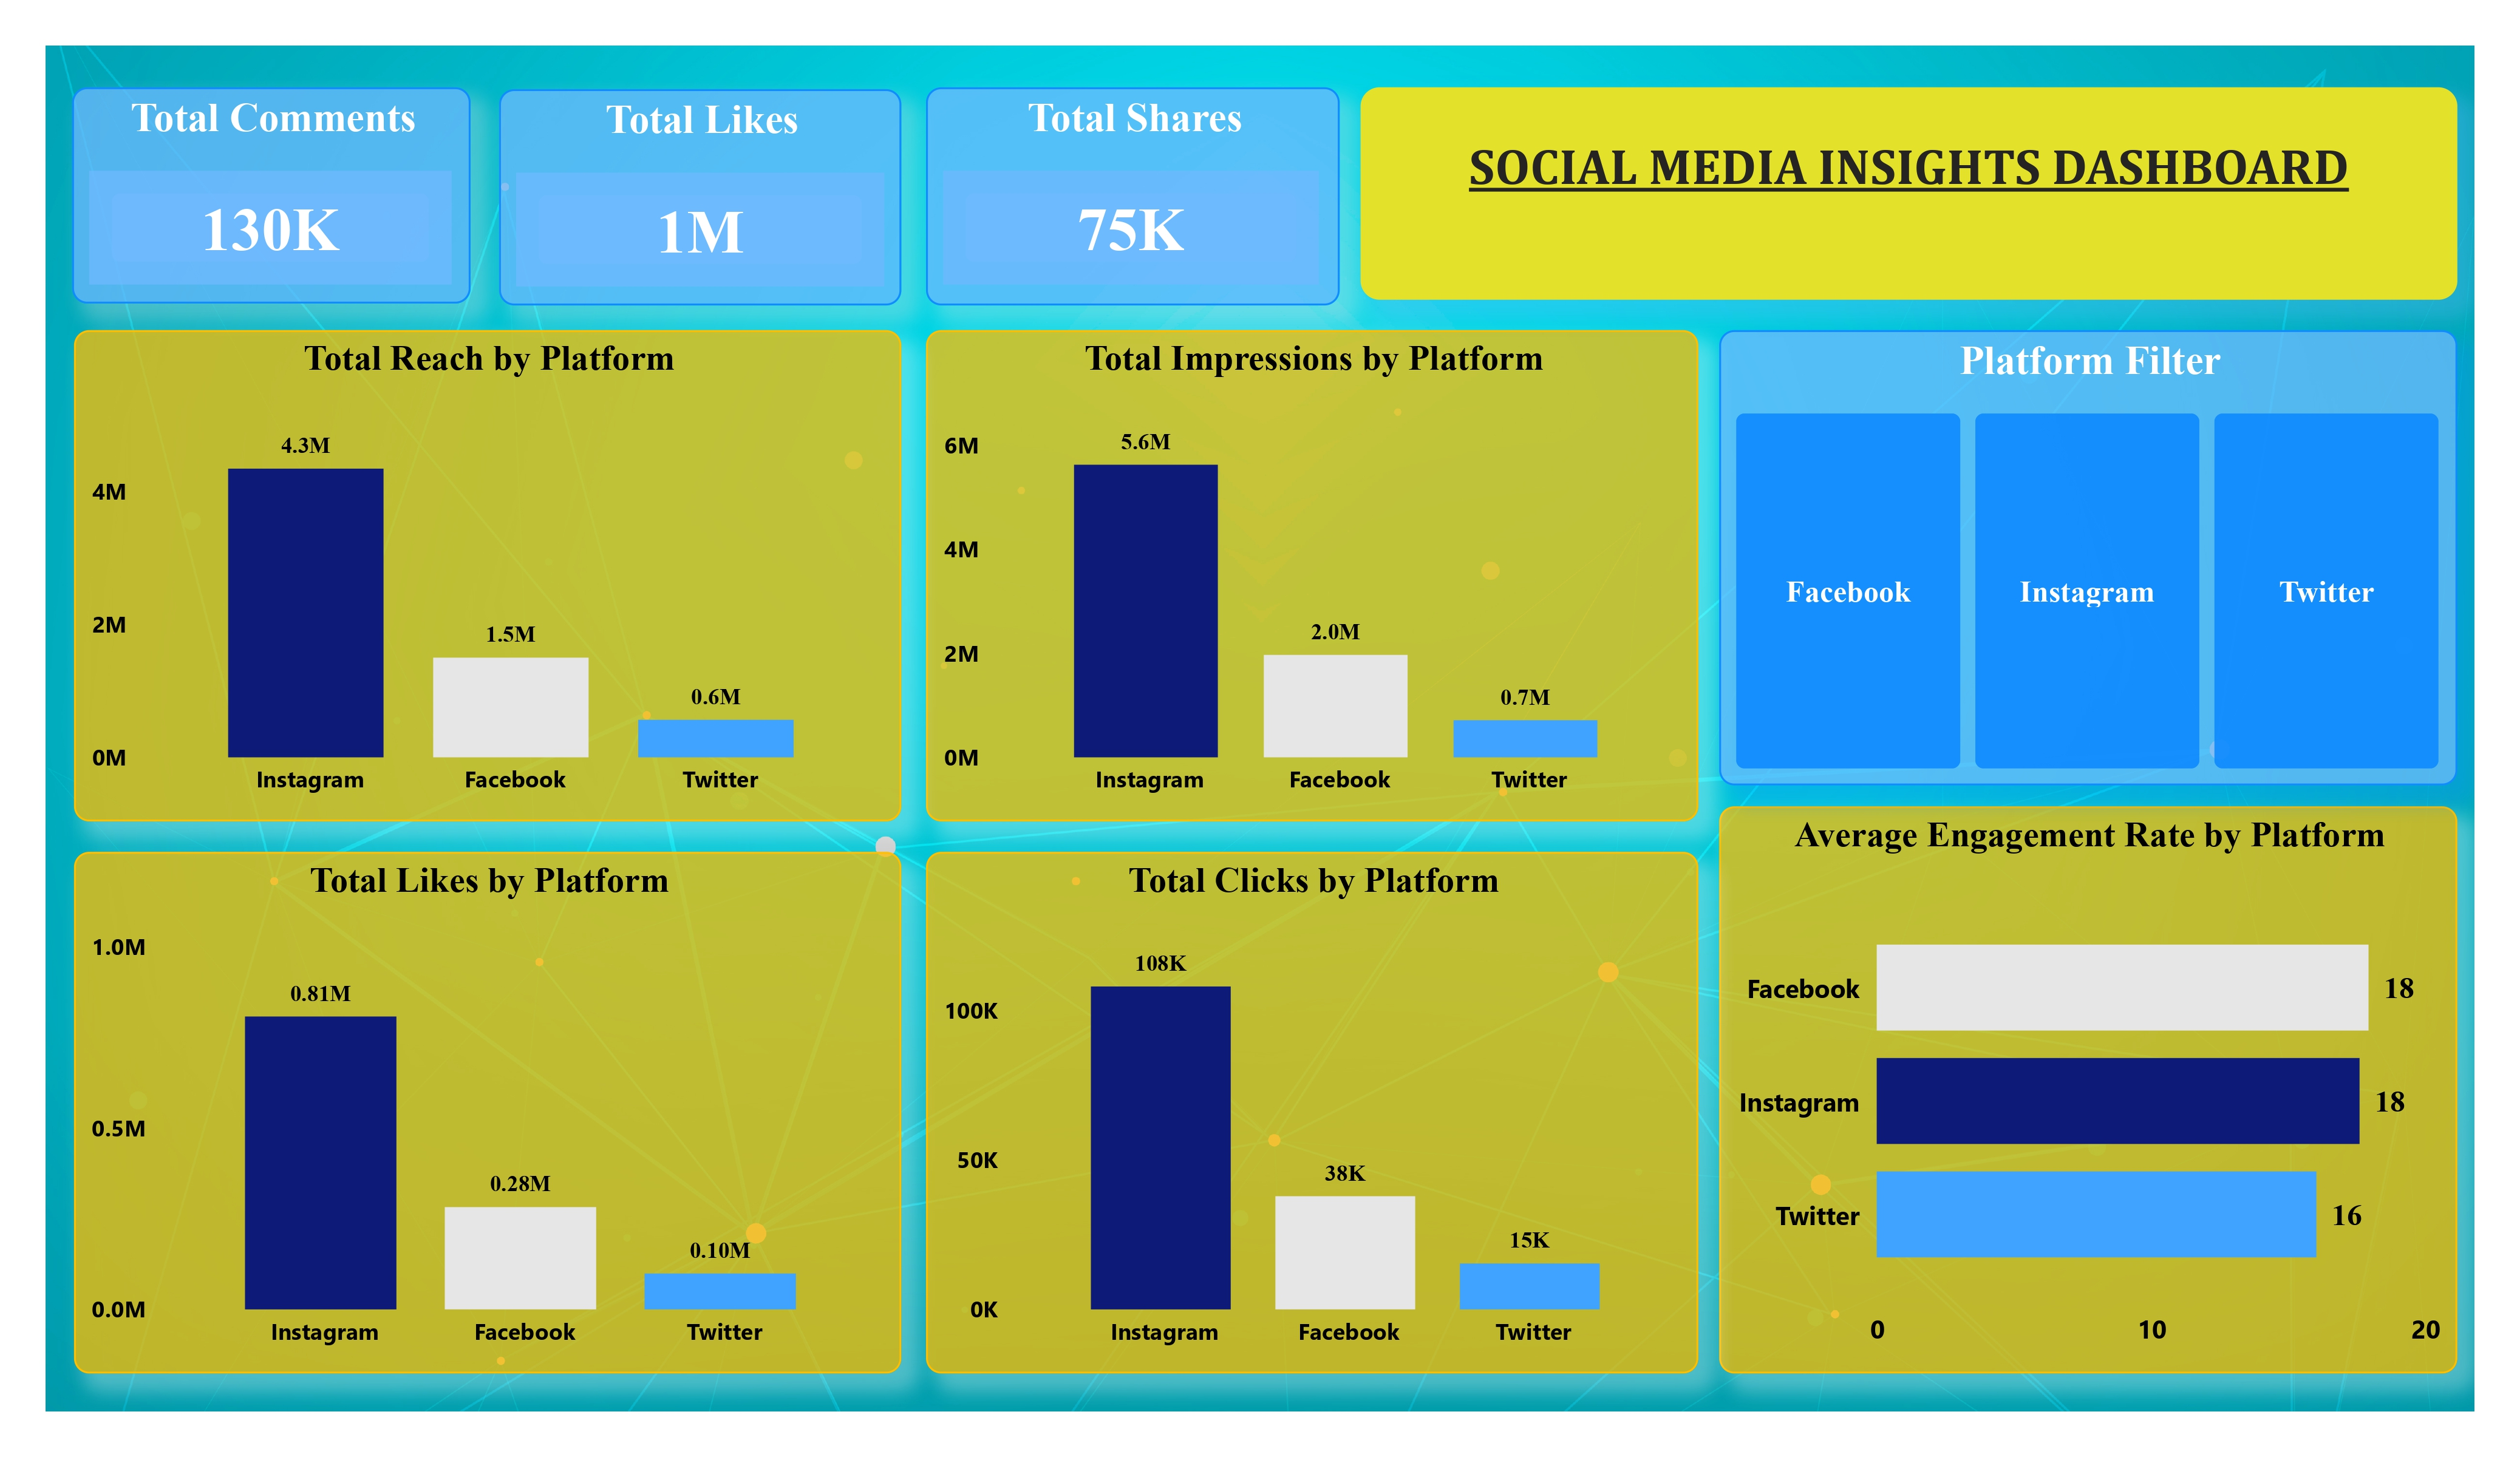

The page's visual inventory and layout, read from the dashboard file:
{"tool":"powerbi","page":{"name":"Page 1","canvas":[1280,720],"ordinal":0},"visuals":[{"type":"cardVisual","title":"Total Likes","fields":{"Data":["Sum(social_media_cleaned.likes)"]},"box":[238.8,23.3,212.7,113.9],"z":0},{"type":"cardVisual","title":"Total Comments","fields":{"Data":["Sum(social_media_cleaned.comments)"]},"box":[13.7,22,209.9,113.9],"z":1000},{"type":"cardVisual","title":"Total Shares","fields":{"Data":["Sum(social_media_cleaned.shares)"]},"box":[463.8,22,218.2,115.3],"z":2000},{"type":"clusteredColumnChart","title":"Total Likes by Platform","fields":{"Category":["social_media_cleaned.platform"],"Y":["Sum(social_media_cleaned.likes)"]},"box":[15.1,425.4,436.4,274.4],"z":3000},{"type":"clusteredBarChart","title":"Average Engagement Rate by Platform","fields":{"Category":["social_media_cleaned.platform"],"Y":["Avg(social_media_cleaned.engagement_rate)"]},"box":[882.3,400.7,388.3,299.1],"z":4000},{"type":"clusteredColumnChart","title":"Total Clicks by Platform","fields":{"Category":["social_media_cleaned.platform"],"Y":["Sum(social_media_cleaned.link_clicks)"]},"box":[463.8,425.4,407.5,274.4],"z":5000},{"type":"clusteredColumnChart","title":"Total Impressions by Platform","fields":{"Category":["social_media_cleaned.platform"],"Y":["Sum(social_media_cleaned.impressions)"]},"box":[463.8,149.6,407.5,259.3],"z":6000},{"type":"clusteredColumnChart","title":"Total Reach by Platform","fields":{"Category":["social_media_cleaned.platform"],"Y":["Sum(social_media_cleaned.reach)"]},"box":[15.1,149.6,436.4,259.3],"z":7000},{"type":"textbox","box":[693,22,577.7,112.5],"z":8000},{"type":"advancedSlicerVisual","title":"Platform Filter","fields":{"Values":["social_media_cleaned.platform"]},"box":[882.3,149.6,388.3,240.1],"z":9000}]}

Visuals, with their boxes on the page's 1280x720 design canvas (x1, y1, x2, y2). These are canvas units, not pixel positions in the 2520x1457 screenshot, which may show the page scaled, cropped or inside an application window:
"Total Likes" cardVisual: (x1=239, y1=23, x2=452, y2=137)
"Total Comments" cardVisual: (x1=14, y1=22, x2=224, y2=136)
"Total Shares" cardVisual: (x1=464, y1=22, x2=682, y2=137)
"Total Likes by Platform" clusteredColumnChart: (x1=15, y1=425, x2=452, y2=700)
"Average Engagement Rate by Platform" clusteredBarChart: (x1=882, y1=401, x2=1271, y2=700)
"Total Clicks by Platform" clusteredColumnChart: (x1=464, y1=425, x2=871, y2=700)
"Total Impressions by Platform" clusteredColumnChart: (x1=464, y1=150, x2=871, y2=409)
"Total Reach by Platform" clusteredColumnChart: (x1=15, y1=150, x2=452, y2=409)
textbox: (x1=693, y1=22, x2=1271, y2=134)
"Platform Filter" advancedSlicerVisual: (x1=882, y1=150, x2=1271, y2=390)
